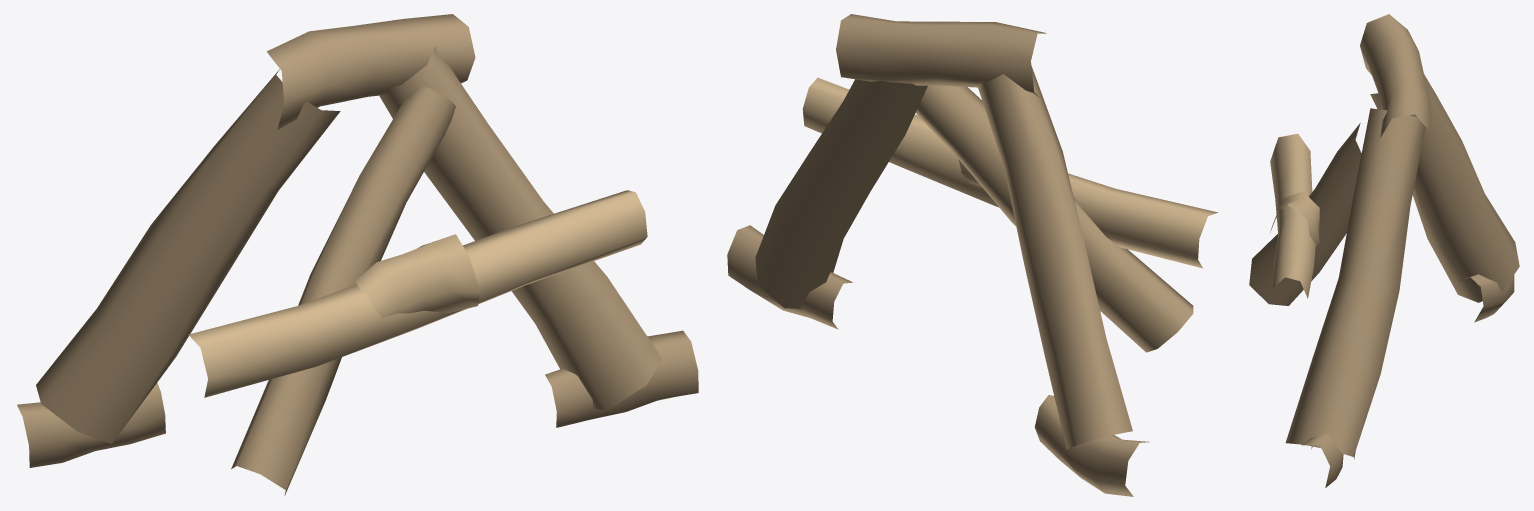
Rendered from forked-timber-reliquary-trestle-v0-binding.glb.
The picture shows the model from 3 angles, left to right: view 1: azimuth 30°, elevation 25°; view 2: azimuth 150°, elevation 25°; view 3: azimuth 270°, elevation 25°; orthographic projection. The views are drawn at different scales.
Parts seen in each view (by area): view 1: reliquary_trestle_body, sacrificial_crossbrace; view 2: reliquary_trestle_body, sacrificial_crossbrace; view 3: reliquary_trestle_body, sacrificial_crossbrace.
Boxes of the visible parts, x1=… form: reliquary_trestle_body: x1=17, y1=14, x2=698, y2=495; sacrificial_crossbrace: x1=188, y1=190, x2=647, y2=397; reliquary_trestle_body: x1=727, y1=14, x2=1193, y2=496; sacrificial_crossbrace: x1=802, y1=77, x2=1218, y2=268; reliquary_trestle_body: x1=1249, y1=14, x2=1519, y2=487; sacrificial_crossbrace: x1=1270, y1=133, x2=1319, y2=298.
Size of the model in its own units: 1.51 by 1.09 by 0.7561.
